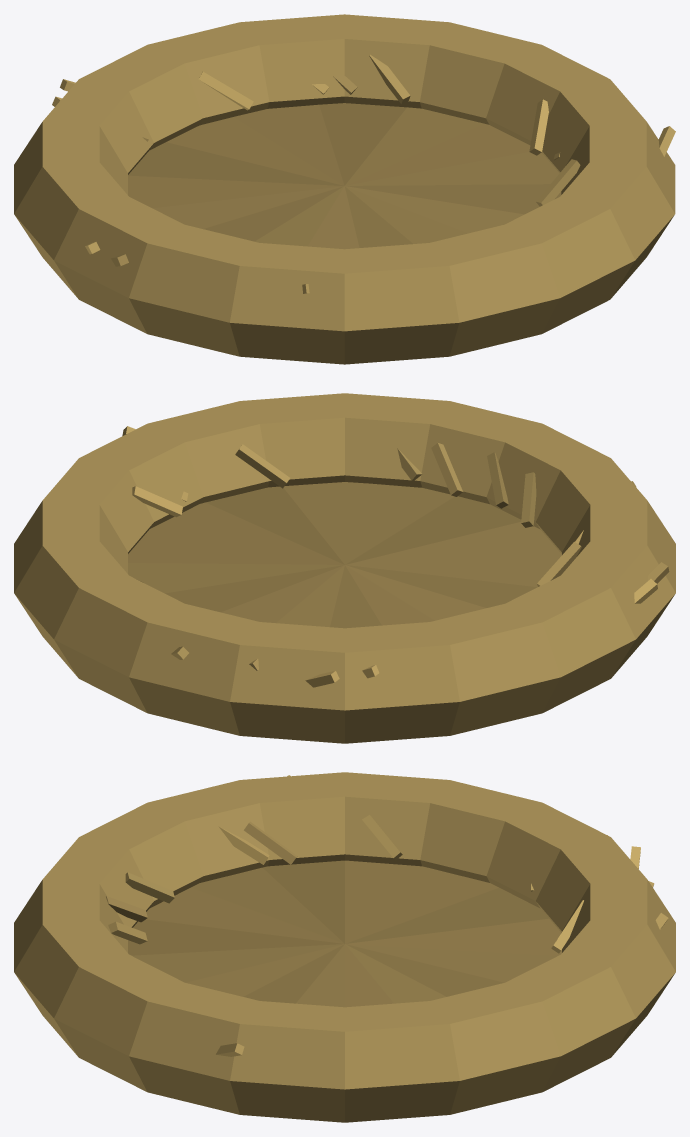
Rendered from animal_bed.glb.
3 views of the same model, one above another, from view 1: azimuth 30°, elevation 25°; view 2: azimuth 150°, elevation 25°; view 3: azimuth 270°, elevation 25° (orthographic).
Visible parts, largest first — view 1: geometry; view 2: geometry; view 3: geometry.
Boxes of the visible parts, x1=… form: geometry: x1=14, y1=14, x2=675, y2=364; geometry: x1=14, y1=393, x2=675, y2=743; geometry: x1=14, y1=772, x2=675, y2=1122.
Bounding box in the file's own units: 0.87 × 0.15 × 0.8568.
